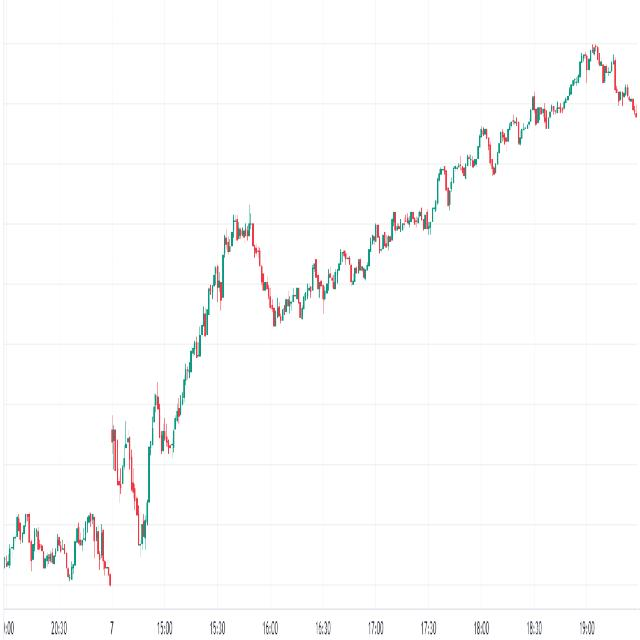Channel-up: (266, 29, 596, 389), (168, 166, 243, 511)
